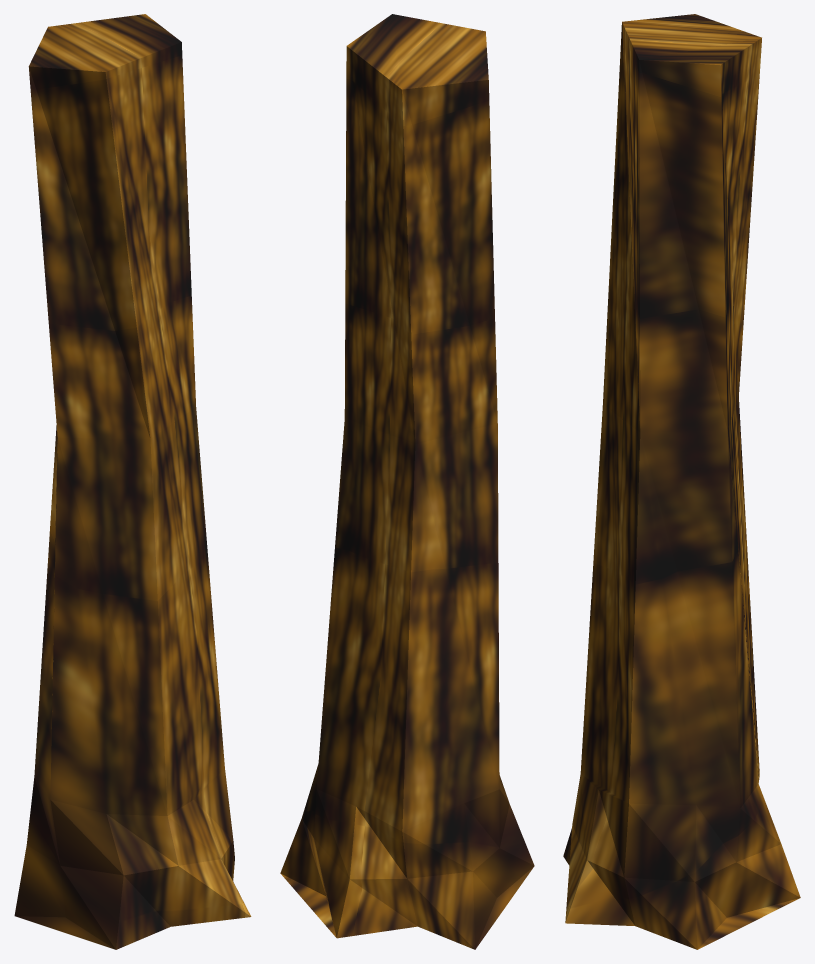
File: MTree_6.gltf
3 renders of one model, left to right at view 1: azimuth 30°, elevation 25°; view 2: azimuth 150°, elevation 25°; view 3: azimuth 270°, elevation 25°, orthographic.
Visible parts, largest first — view 1: MTree_6; view 2: MTree_6; view 3: MTree_6.
Boxes of the visible parts, x1,y1,x2,y2 form: MTree_6: [14, 14, 251, 949]; MTree_6: [280, 14, 534, 949]; MTree_6: [563, 14, 800, 949].
Bounding box in the file's own units: 4.76 × 19.16 × 4.76.
Materials: 1 (1 with a texture image).
